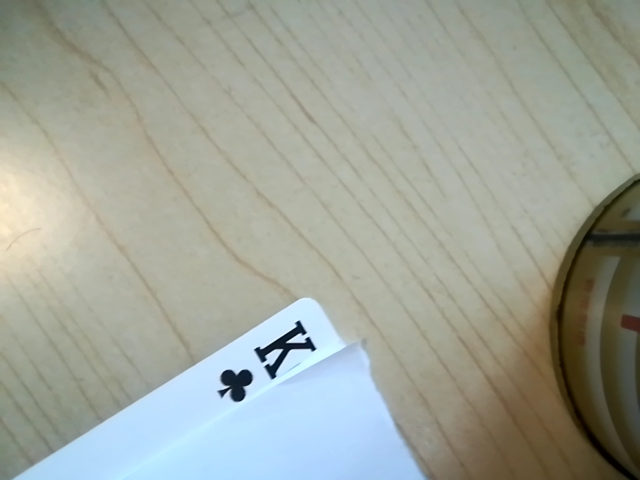mh k: (201, 315, 335, 408)
